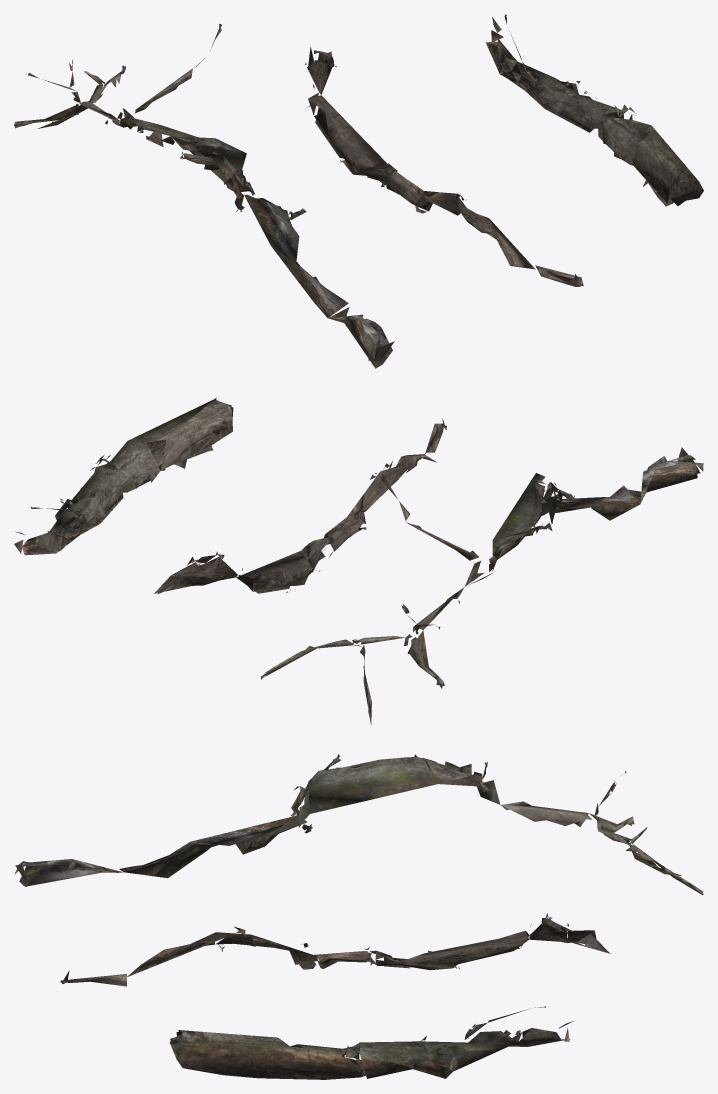
File: dry_branches_medium_01.glb
The picture shows the model from 3 angles, top to bottom: view 1: azimuth 30°, elevation 25°; view 2: azimuth 150°, elevation 25°; view 3: azimuth 270°, elevation 25°; orthographic projection. The views are drawn at different scales.
Parts seen in each view (by area): view 1: dry_branches_medium_01_a, dry_branches_medium_01_c, dry_branches_medium_01_b; view 2: dry_branches_medium_01_c, dry_branches_medium_01_a, dry_branches_medium_01_b; view 3: dry_branches_medium_01_a, dry_branches_medium_01_c, dry_branches_medium_01_b.
Boxes of the visible parts, <box> form: dry_branches_medium_01_a: <box>14,23,394,368</box>; dry_branches_medium_01_c: <box>486,14,703,206</box>; dry_branches_medium_01_b: <box>305,47,583,286</box>; dry_branches_medium_01_c: <box>14,397,233,555</box>; dry_branches_medium_01_a: <box>260,447,703,725</box>; dry_branches_medium_01_b: <box>154,418,446,594</box>; dry_branches_medium_01_a: <box>14,754,703,895</box>; dry_branches_medium_01_c: <box>169,1006,573,1079</box>; dry_branches_medium_01_b: <box>60,913,610,986</box>.
Bounding box in the file's own units: 1.06 × 0.3268 × 1.3.
Materials: 1 (1 with a texture image).
